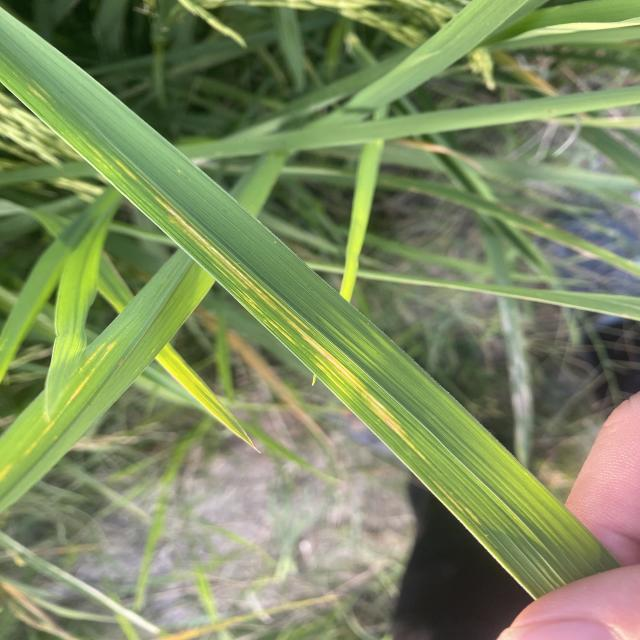Dom soc vi khuan: (281, 315, 434, 467), (153, 194, 279, 312), (265, 317, 300, 347), (233, 286, 263, 314)
